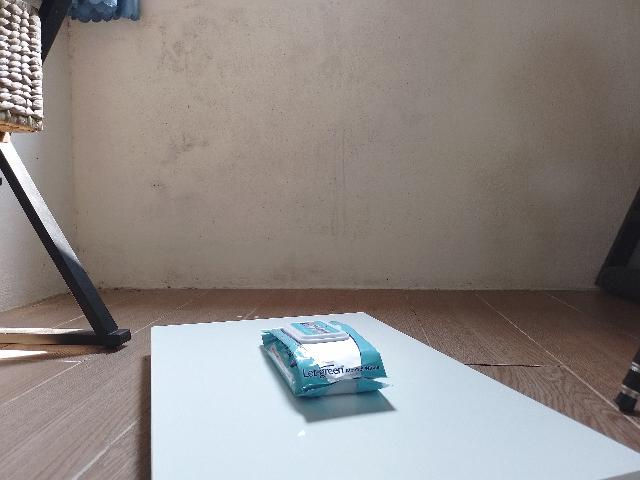Let-green_alcohol_wipes: (259, 321, 395, 399)
